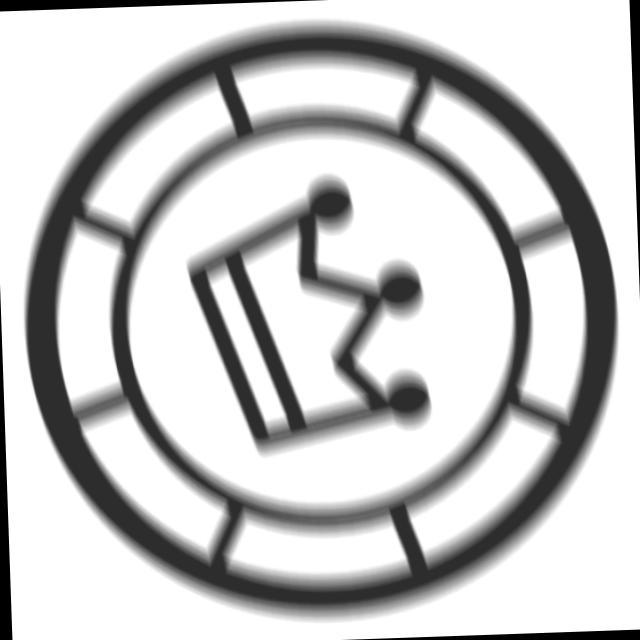coin: (1, 3, 640, 638)
